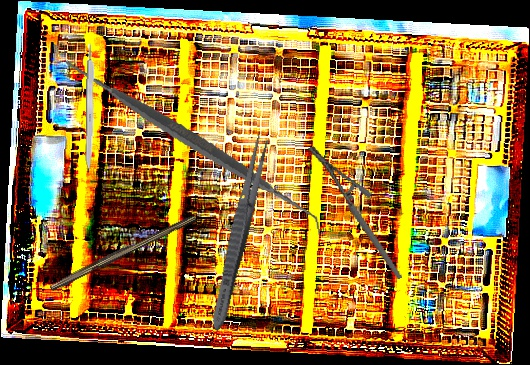Dressing Forceps: (206, 129, 273, 334)
Needle Holder: (307, 133, 403, 293)
Scalpel Handle: (48, 210, 197, 294), (84, 41, 97, 174)
Spatula Surgical: (63, 15, 321, 267)
